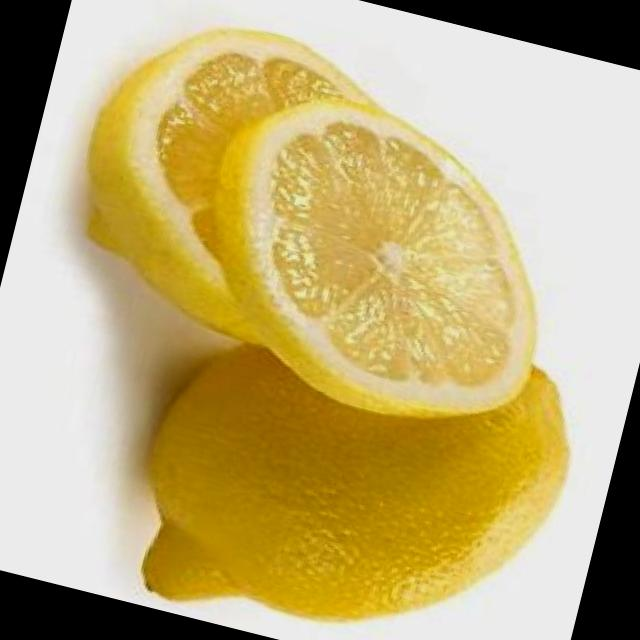lemon: (81, 271, 599, 640)
